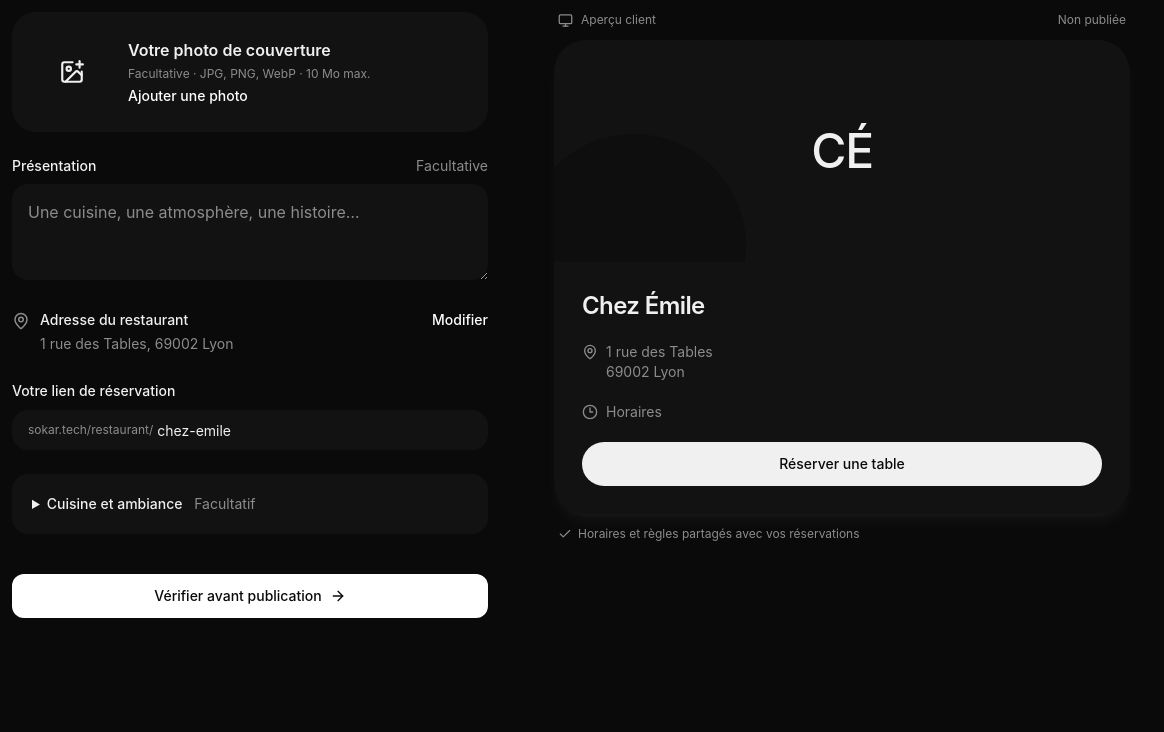
conserve la saisie si la sauvegarde échoue
The image size is (1164, 732).
Type "Notre présentation." into the text box labelled "Présentation Facultative" at (250, 232), box [12,184,488,280]
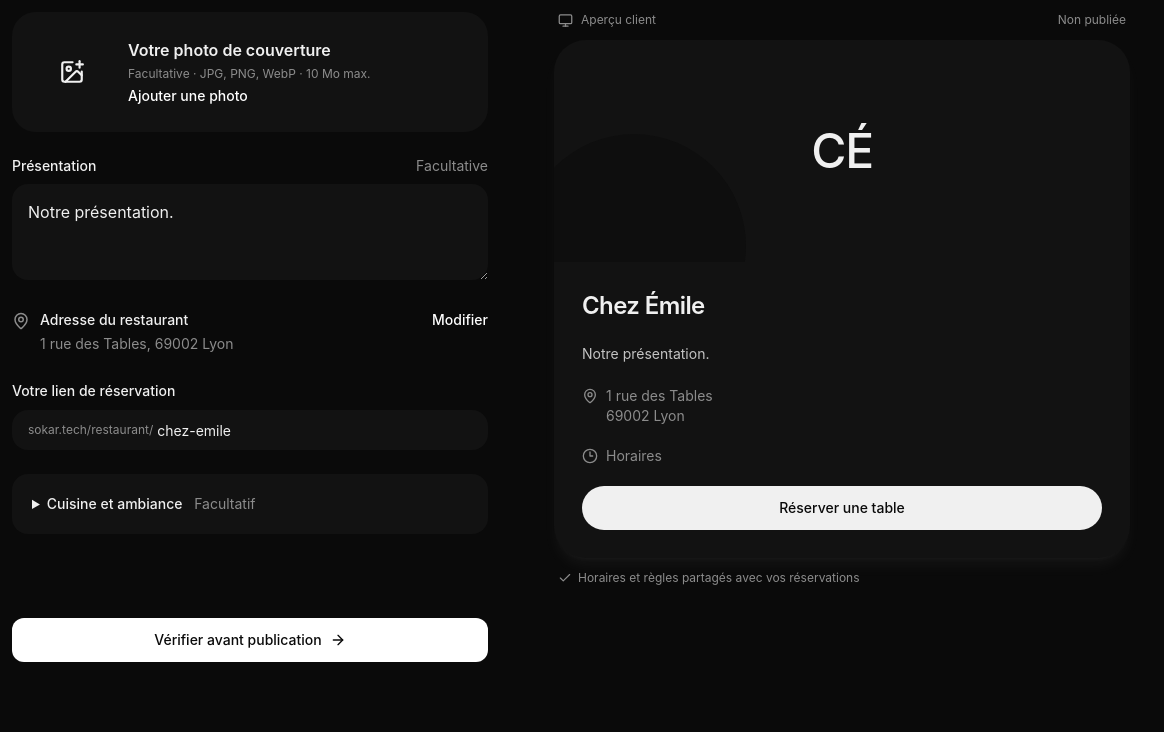
Click the button "Vérifier avant publication" at (250, 640), box [12,618,488,662]
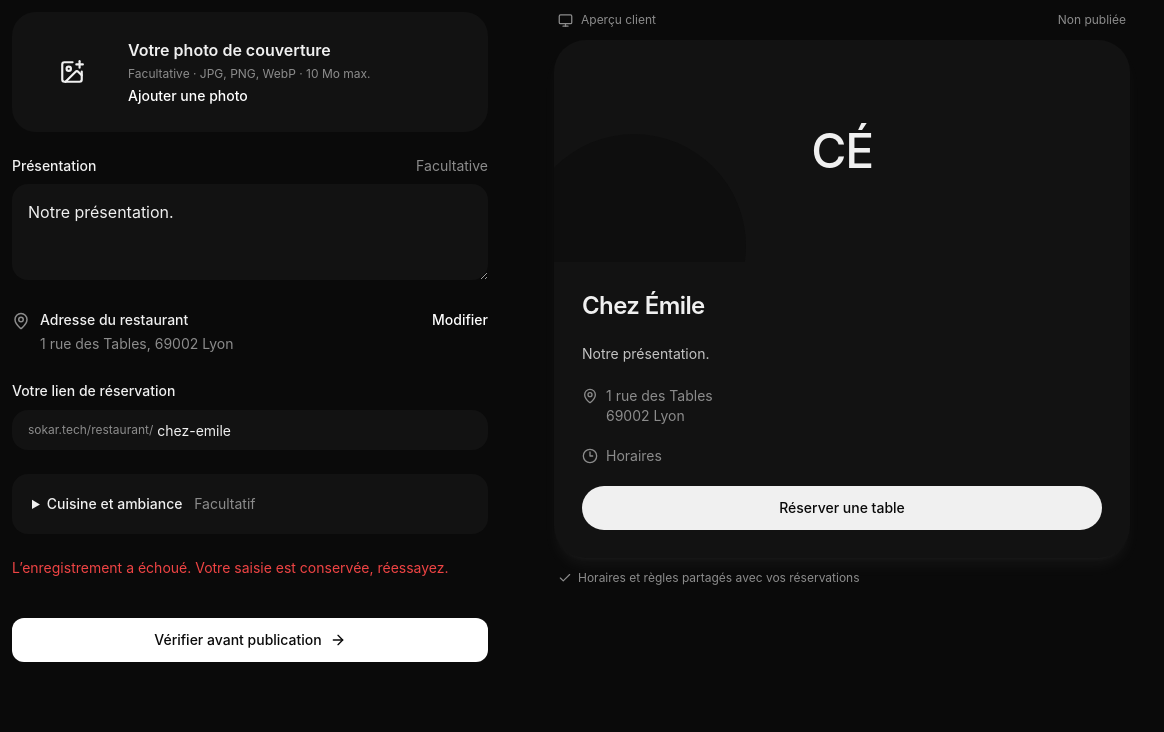
Result: the message shows "Votre saisie est conservée" at [12,559,448,576]
